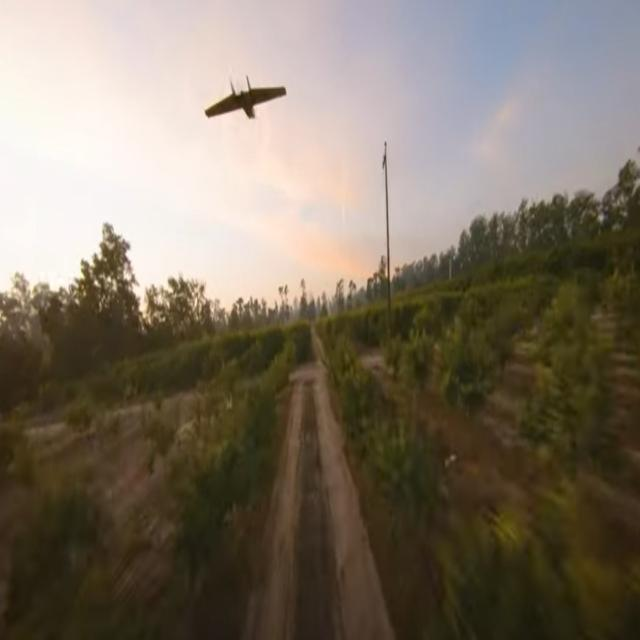iha: (235, 7, 254, 60)
